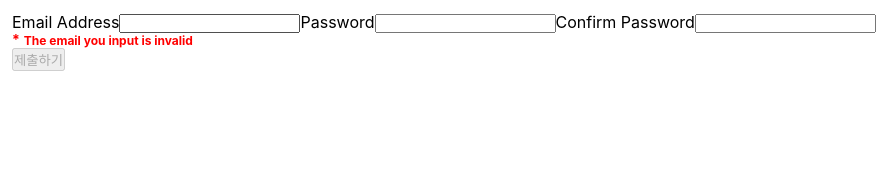
Scenario: Home Testing › Error Handling › should show password error message if password is less than 5 character
Step 1. Type "python@gmail.com" into the field labelled "Email Address" → (210, 24), box [120,14,300,33]
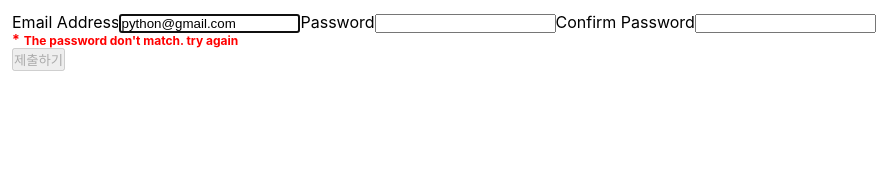
Step 2. Type "1234" into the password field labelled "Password" → (465, 24), box [374,14,556,33]
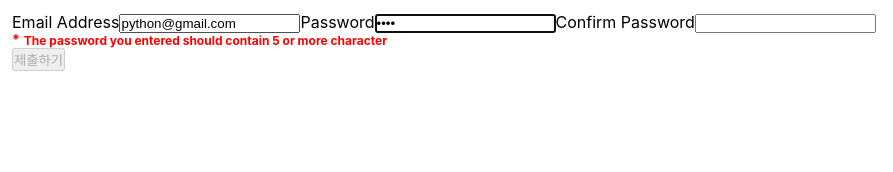
Now the text "The password you entered should contain 5 or more character" is shown, box [24,33,387,48]
